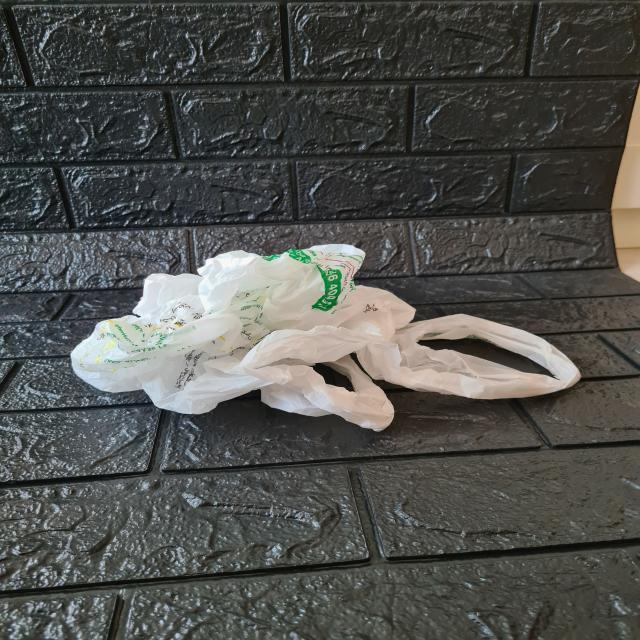Plastic_Bag: (70, 240, 584, 436)
